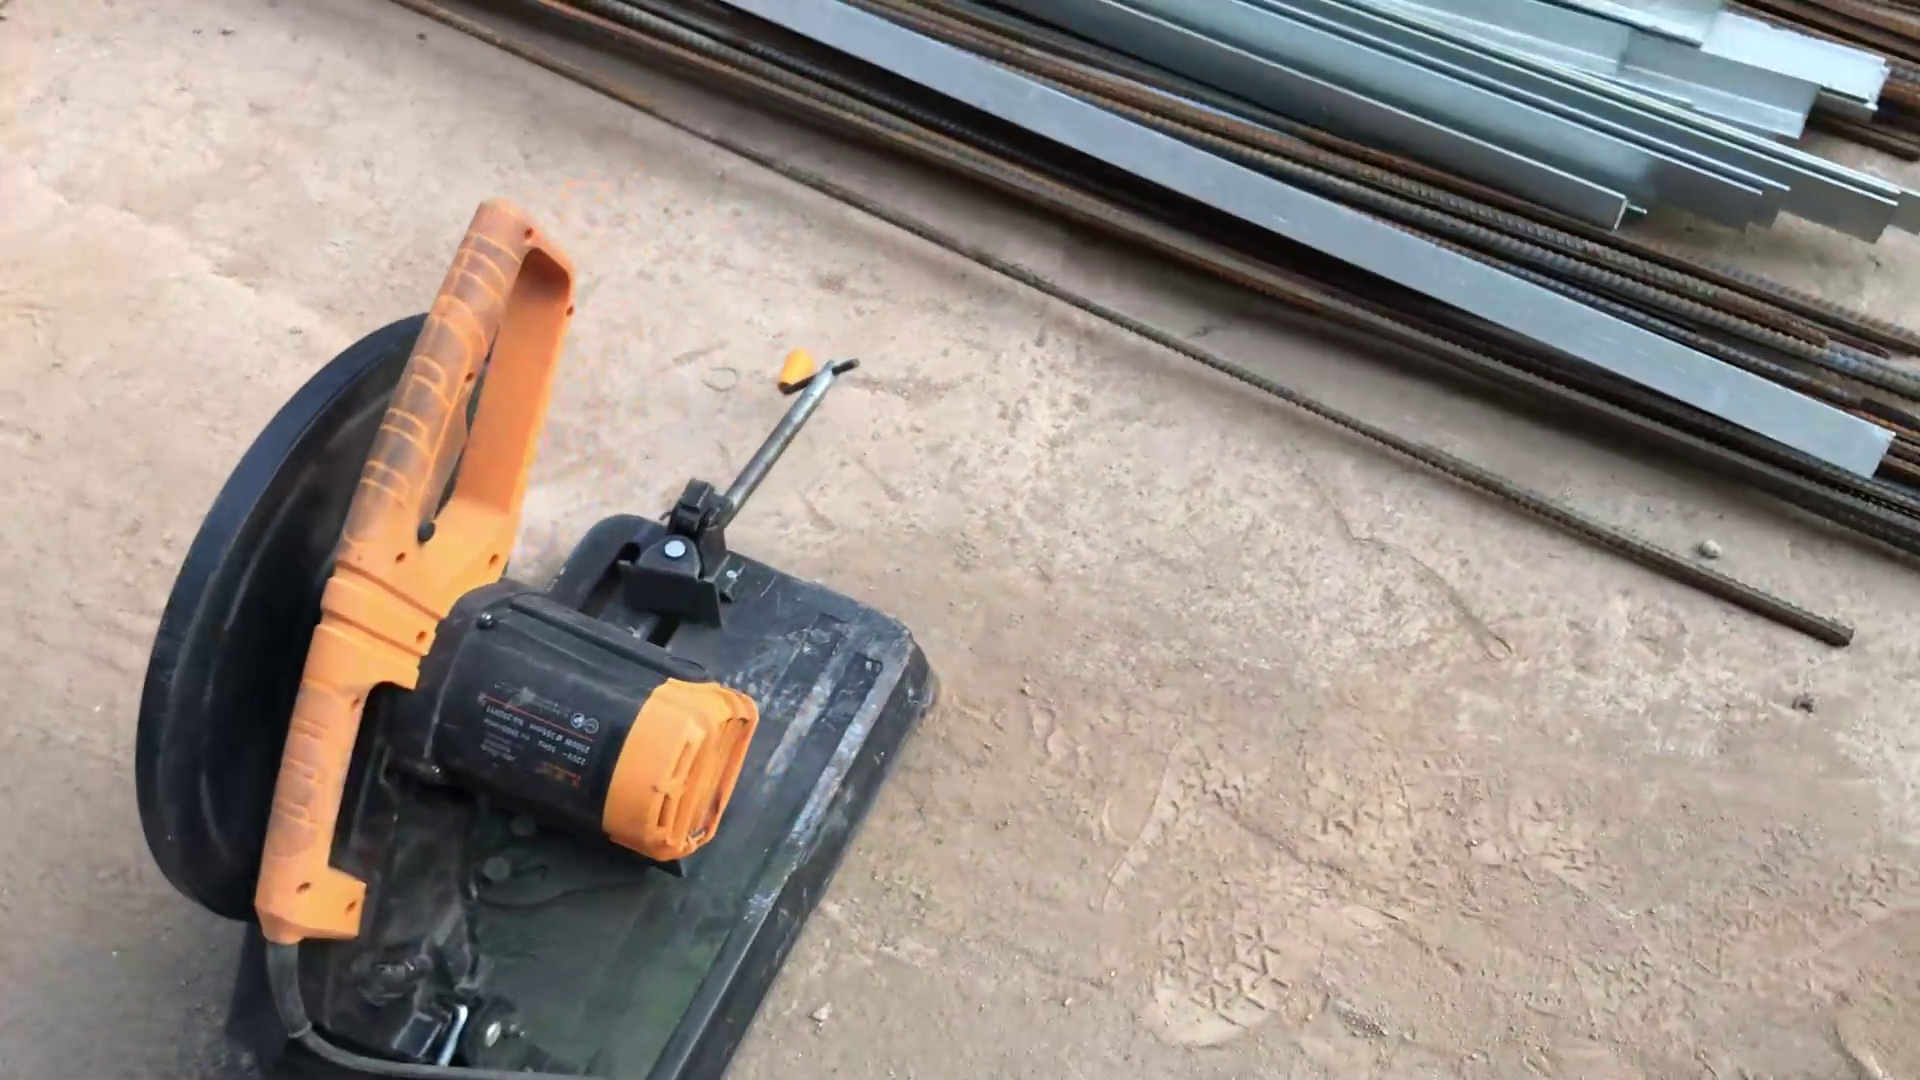cutter: (124, 174, 957, 1080)
